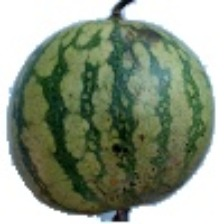watermelon: (48, 56, 196, 211)
